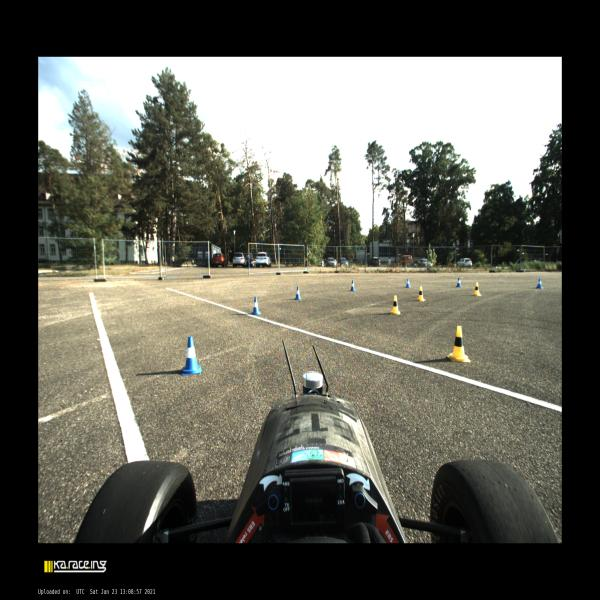blue_cone: (181, 336, 201, 375), (252, 296, 261, 314), (294, 286, 301, 300), (536, 278, 544, 288), (350, 280, 356, 291), (455, 278, 461, 288), (405, 278, 410, 288)
yellow_cone: (446, 324, 470, 364), (390, 295, 400, 316), (417, 286, 425, 302), (473, 282, 482, 296)
